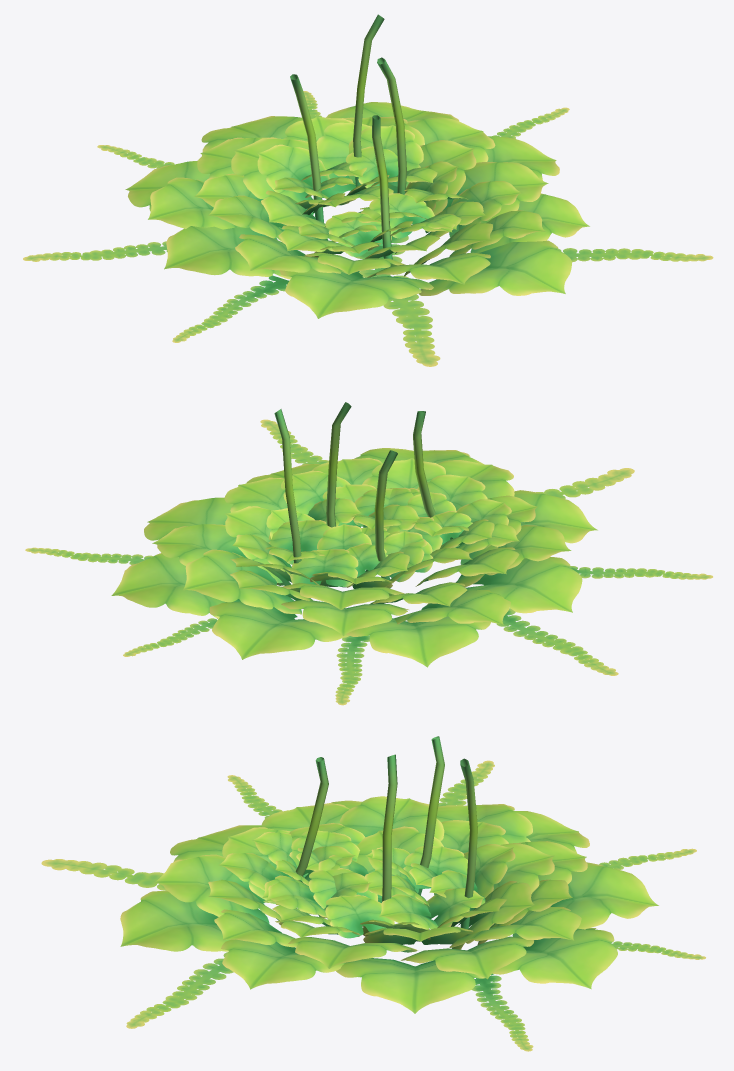
Rendered from PVB export plant 03.fbx.
The picture shows the model from 3 angles, top to bottom: view 1: azimuth 30°, elevation 25°; view 2: azimuth 150°, elevation 25°; view 3: azimuth 270°, elevation 25°; orthographic projection. The views are drawn at different scales.
Parts seen in each view (by area): view 1: pPlane22, pPlane33, pPlane32, pPlane80, pPlane64, pPlane35, pPlane26, pPlane23, pPlane74, pPlane34, pPlane68, pPlane25 (+32 smaller); view 2: pPlane30, pPlane32, pPlane31, pPlane21, pPlane79, pPlane80, pPlane24, pPlane25, pPlane33, pPlane17, pPlane35, pPlane62 (+45 smaller); view 3: pPlane22, pPlane17, pPlane21, pPlane30, pPlane23, pPlane34, pPlane25, pPlane67, pPlane79, pPlane26, pPlane80, pPlane83 (+42 smaller).
Part boxes in pixels (box(x1,y1,x2,y2)): pPlane22: box(419, 240, 571, 295); pPlane33: box(279, 268, 433, 318); pPlane32: box(164, 226, 291, 279); pPlane80: box(148, 177, 249, 229); pPlane64: box(355, 236, 440, 366); pPlane35: box(235, 234, 346, 273); pPlane26: box(442, 162, 548, 237); pPlane23: box(470, 193, 589, 253); pPlane74: box(257, 144, 329, 202); pPlane34: box(367, 252, 490, 284); pPlane68: box(231, 137, 346, 214); pPlane25: box(406, 117, 495, 162); pPlane30: box(209, 601, 349, 659); pPlane32: box(427, 557, 582, 613); pPlane31: box(346, 616, 490, 667); pPlane21: box(111, 553, 240, 618); pPlane79: box(183, 549, 301, 614); pPlane80: box(393, 590, 510, 624); pPlane24: box(281, 599, 409, 635); pPlane25: box(152, 524, 253, 565); pPlane33: box(460, 490, 597, 564); pPlane17: box(144, 497, 233, 540); pPlane35: box(455, 525, 571, 587); pPlane62: box(496, 608, 618, 675); pPlane22: box(120, 891, 230, 951); pPlane17: box(336, 958, 484, 1013); pPlane21: box(492, 928, 617, 989); pPlane30: box(512, 862, 658, 937); pPlane23: box(221, 939, 345, 989); pPlane34: box(154, 854, 269, 923); pPlane25: box(401, 936, 533, 979); pPlane67: box(339, 796, 444, 840); pPlane79: box(449, 907, 581, 947); pPlane26: box(288, 937, 417, 968); pPlane80: box(436, 804, 532, 843); pPlane83: box(325, 894, 394, 938).
Bounding box in the file's own units: 11 × 3.26 × 10.79.
1 material, 1 textured.
